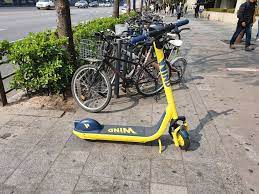kick_board: (74, 18, 189, 151)
kick_body: (103, 125, 156, 139)
kick_handler: (131, 19, 189, 43)
kick_neck: (157, 50, 176, 115)
kick_wheel: (75, 119, 100, 140), (169, 127, 188, 151)
